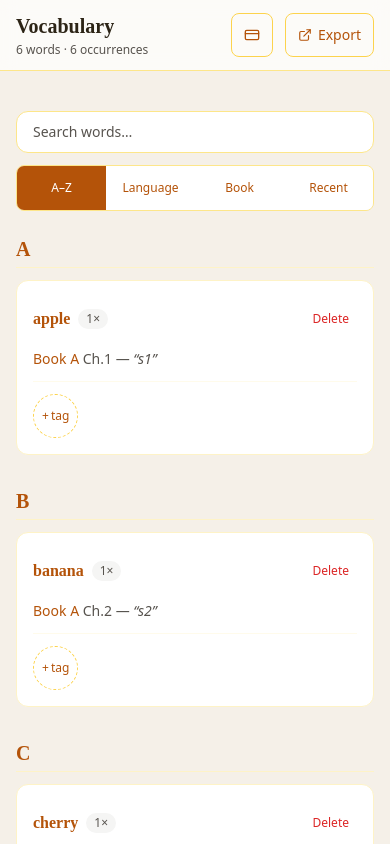
Scenario: VocabularyPage — search input onChange (line 113) › shows 'No words match' message when search has no matches
Check: the button "apple" is shown, box [33,297,70,341]
Type "zzznomatch" into the search field with placeholder "Search words…" at x=195, y=132, box [16,111,374,153]
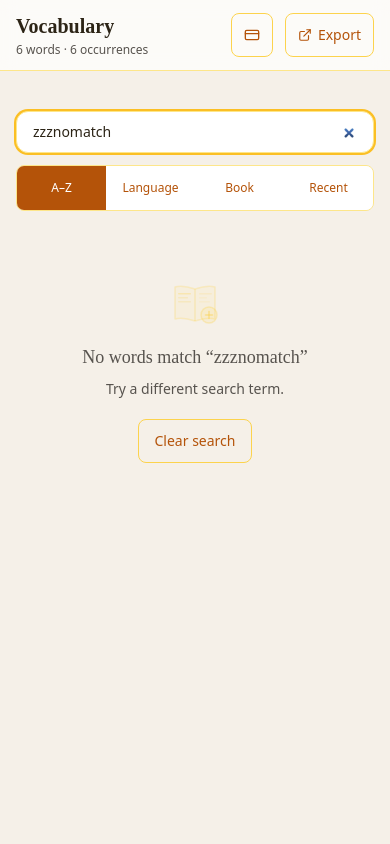
Check: the text "No words match “zzznomatch”" is shown, box [82,343,308,371]
